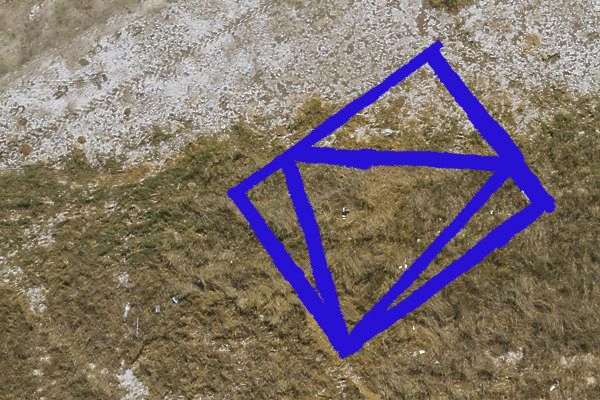marker: (222, 34, 564, 359)
